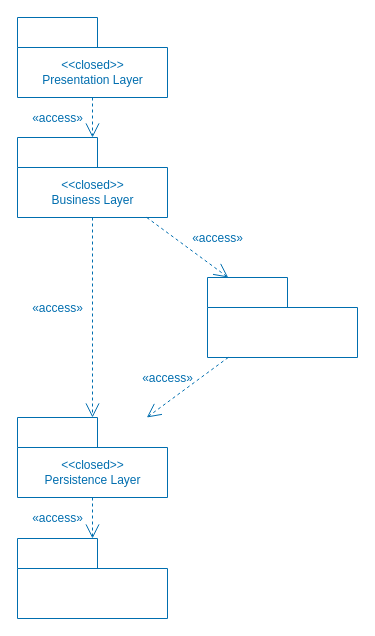
The diagram is 375 pixels wide and 636 high, and some of its shapes have lost their labels. Here are the shapes that lost their labels. From the top down, the centre of each, then its label:
At pixel 282 317: "<<open>> Services Layer".
At pixel 92 578: "<<closed>> Database Layer".
